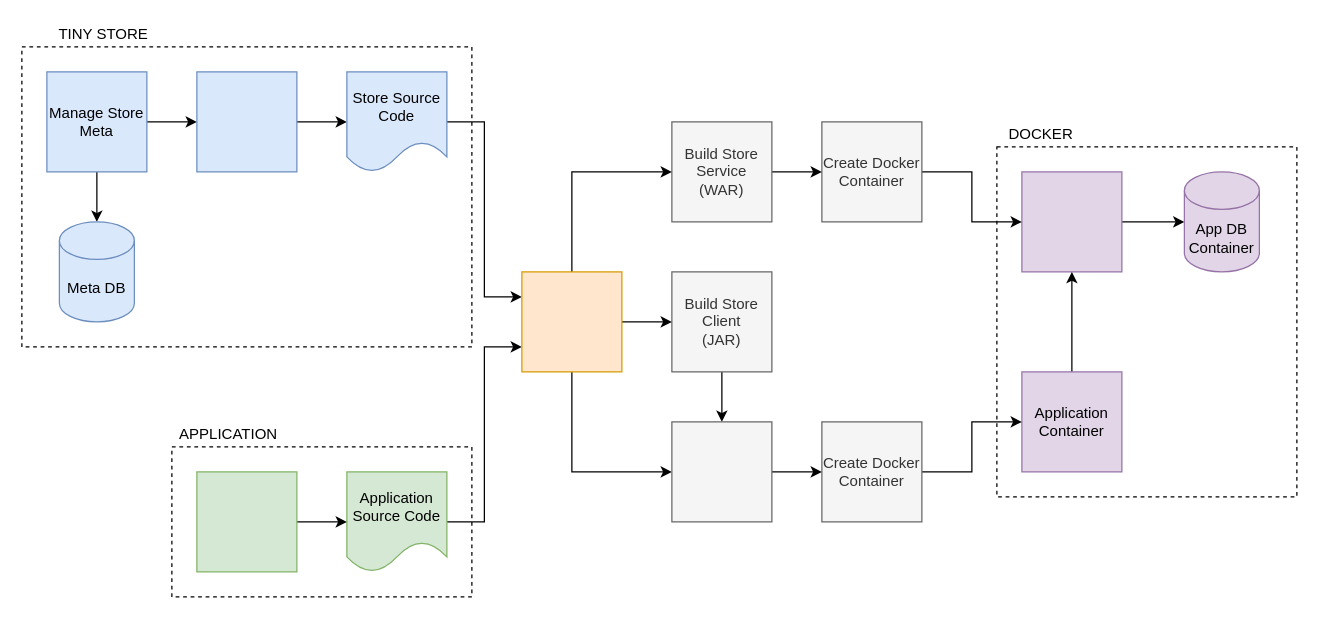
This 1319x619 diagram has some shape labels left out. Each missing label, with the centre of its shape:
"Build Application (WAR)" goes at point 721,471.
"Data Server Container" goes at point 1071,221.
"Develop Application" goes at point 246,521.
"Generate Source Code" goes at point 246,121.
"Git Repository" goes at point 571,321.
